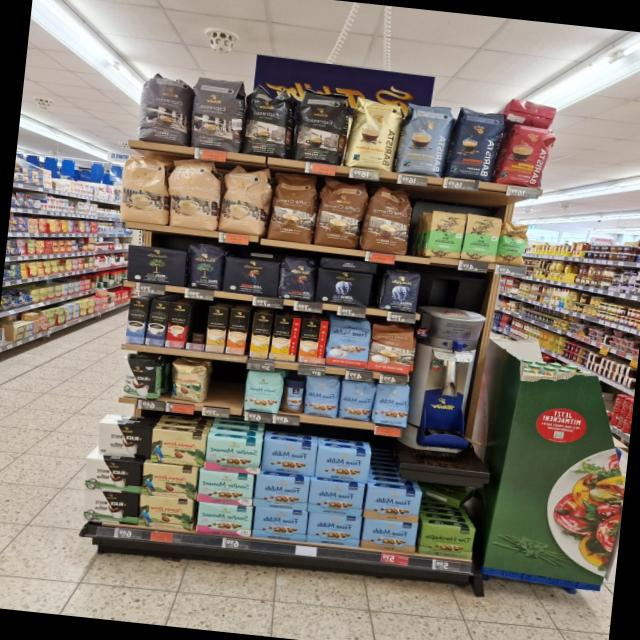AB Bohne: (378, 268, 422, 312)
AB Gemahlen: (314, 268, 374, 308)
Athiopien Bohne: (496, 220, 532, 267)
Athiopien Gemahlen: (422, 209, 467, 259), (461, 213, 502, 264)
BM Bohne: (183, 241, 225, 290)
BM Gemahlen: (124, 244, 188, 286)
BW Bohne: (119, 354, 160, 400)
BW Gemahlen: (81, 455, 142, 494), (96, 420, 153, 460), (82, 488, 138, 526)
Barista CB: (345, 98, 402, 170)
Barista CC: (398, 102, 452, 176)
Barista Kolumbien: (496, 122, 556, 188)
CC Mild: (164, 159, 221, 231), (216, 163, 272, 236), (116, 152, 170, 224)
CC Vollmundig: (368, 322, 414, 374)
CC Vollmundig 36 Pads: (266, 170, 320, 243), (314, 177, 368, 250), (362, 185, 414, 255)
Colombia BB Bohne: (168, 361, 207, 403)
Colombia BB Gemahlen: (148, 427, 206, 467), (141, 461, 198, 500), (136, 494, 192, 530)
Empty Shelf: (204, 364, 244, 408), (186, 303, 207, 344)
Espresso Aromatisch: (186, 74, 246, 151), (134, 74, 192, 146)
Espresso Kraftig: (292, 89, 349, 164), (240, 81, 294, 157)
FM 36 Pads: (324, 316, 372, 368)
FM Bohne: (372, 382, 412, 428), (337, 378, 375, 422), (302, 373, 339, 418)
FM Gemahlen: (252, 472, 310, 512), (314, 444, 372, 484), (260, 437, 317, 477), (363, 484, 421, 522), (306, 478, 364, 516), (360, 516, 417, 554), (252, 504, 308, 542), (306, 511, 362, 547)
FM Instant: (280, 376, 307, 414)
Herzhatfe Mundig: (417, 522, 476, 560)
LG Bohne: (278, 255, 317, 302)
LG Gemahlen: (221, 256, 281, 297)
SM Bohne: (242, 368, 284, 414)
SM Gemahlen: (196, 468, 255, 507), (204, 436, 262, 474), (195, 501, 253, 538)
Simo CCMild: (270, 315, 300, 361)
Simo CCMild bigpack: (248, 312, 272, 358)
Simo CCVollmundig: (298, 318, 328, 364)
Simo CCVollmundig bigpack: (225, 308, 250, 356)
Simo Decaff: (204, 306, 228, 352)
Simo Es Brazil: (164, 302, 190, 348)
Simo Es Caramel: (446, 107, 507, 183)
Simo Es Kraft: (145, 298, 169, 346)
Simo Es Vanilla: (124, 297, 150, 345)
